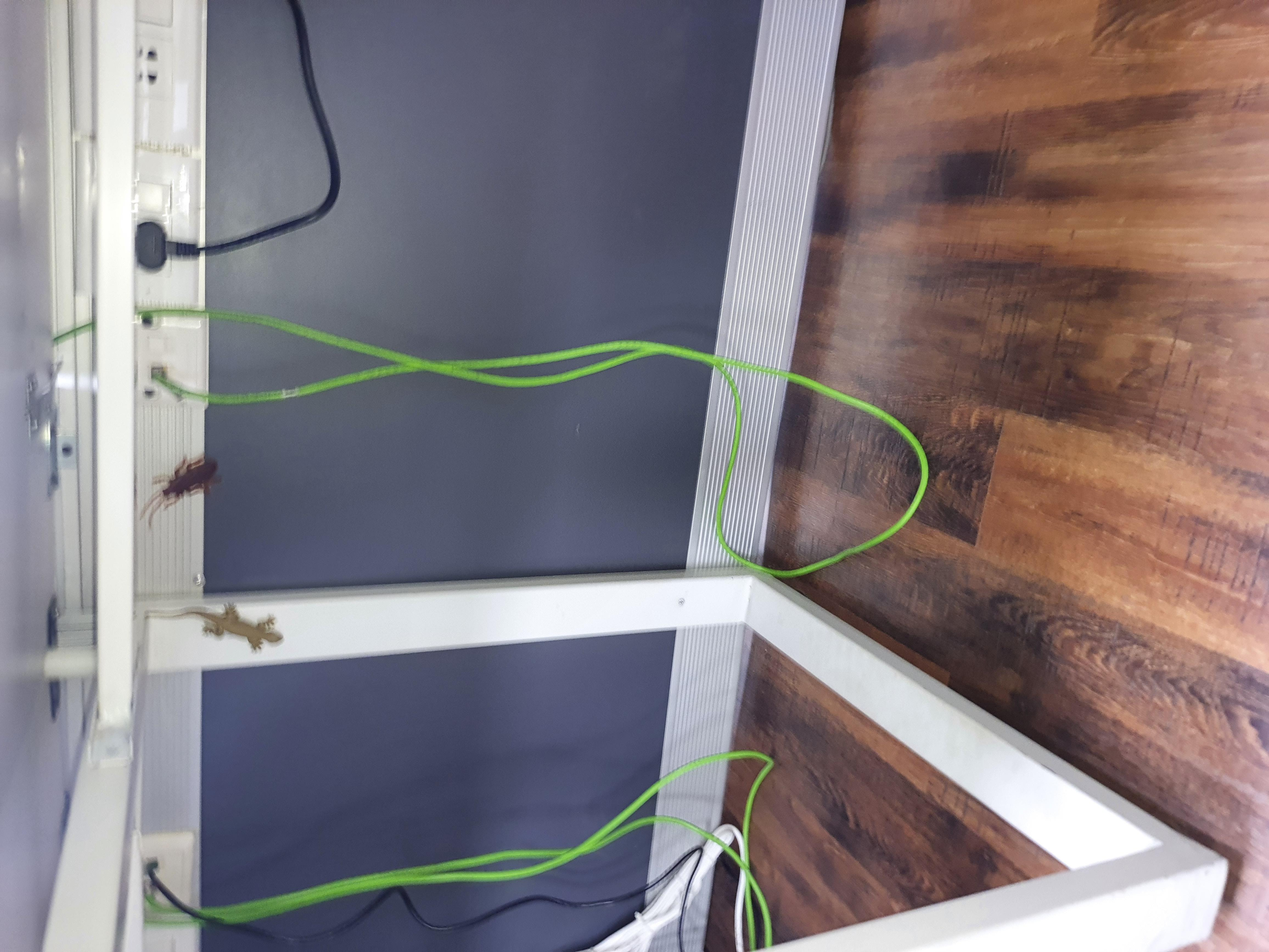cockroach: (561, 99, 674, 168)
lizard: (403, 122, 472, 219)
